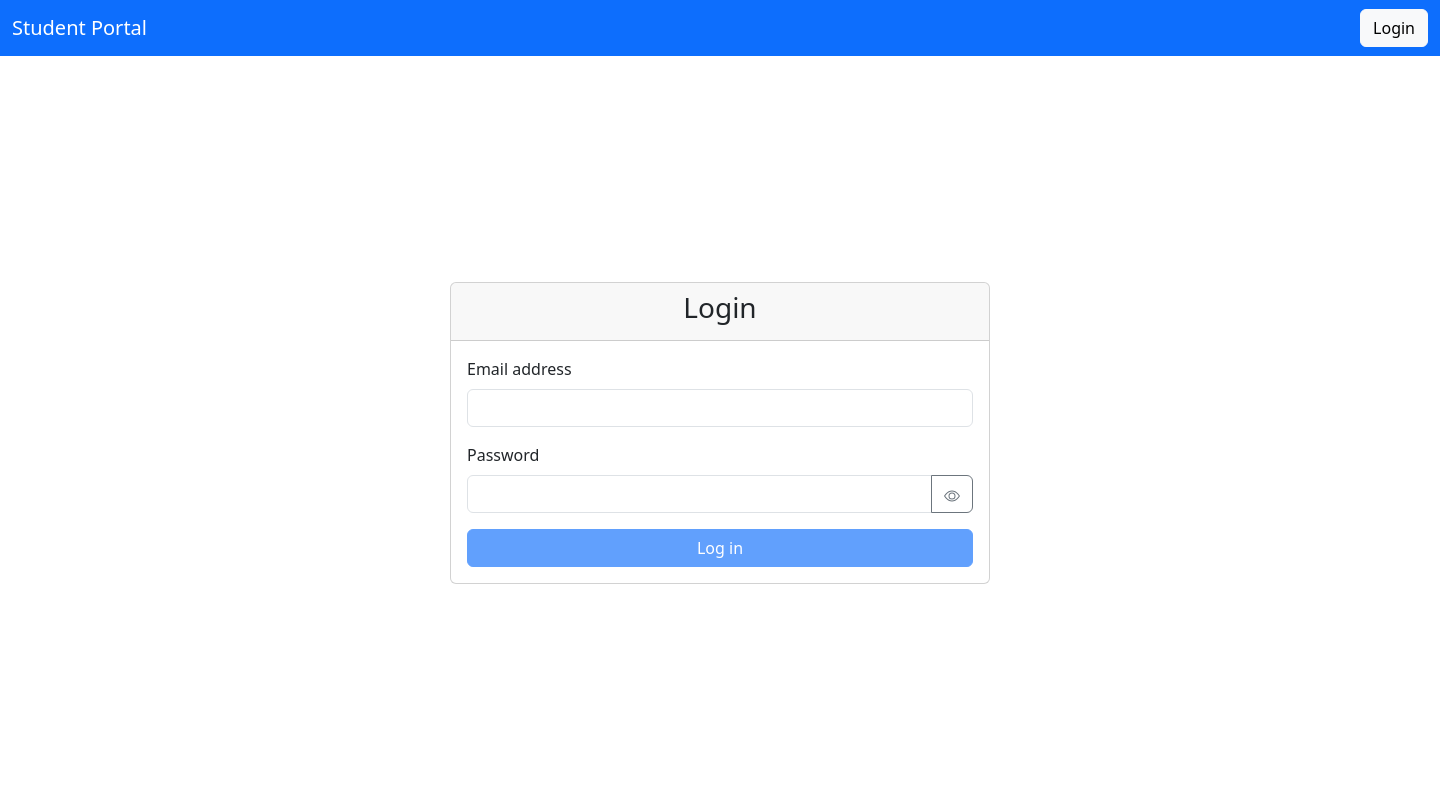
Test: LoginPage (§5.2) › when a malformed email is entered then it shows a format error
Type "not-an-email" into the field labelled "Email address".
click(720, 408); type("not-an-email")  # box [467,389,973,427]
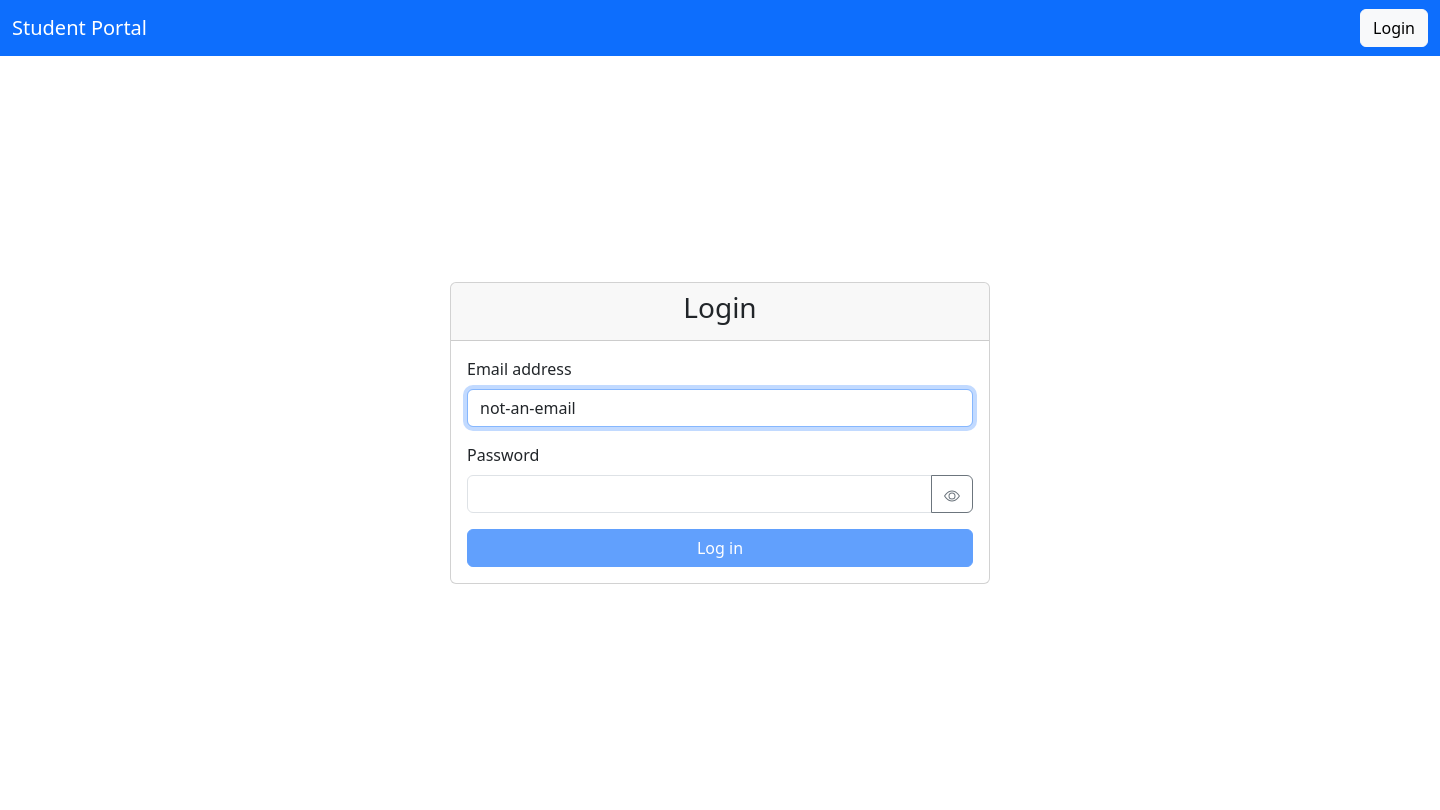
Press Tab
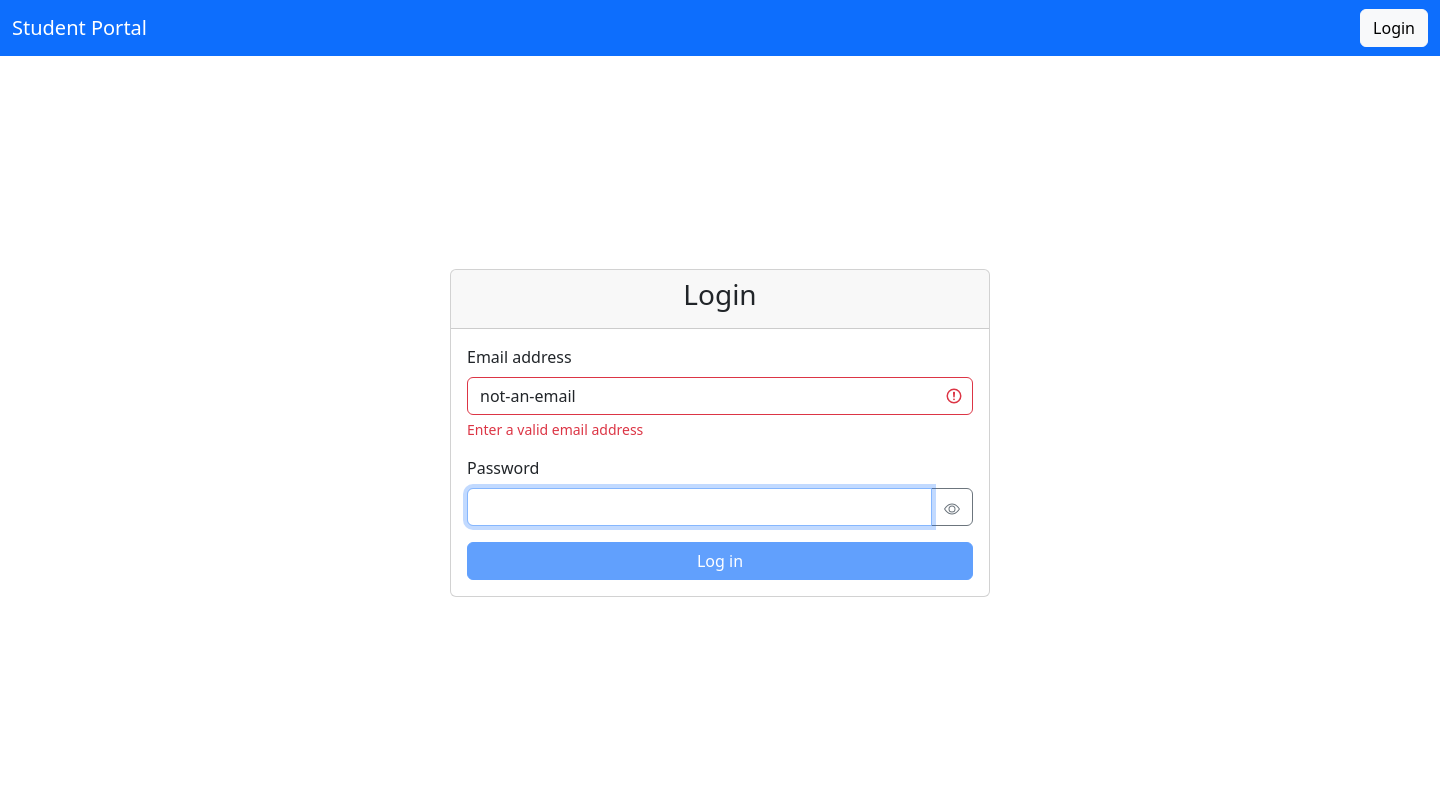
Result: the text "Enter a valid email address" is shown at [467,420,643,439]
